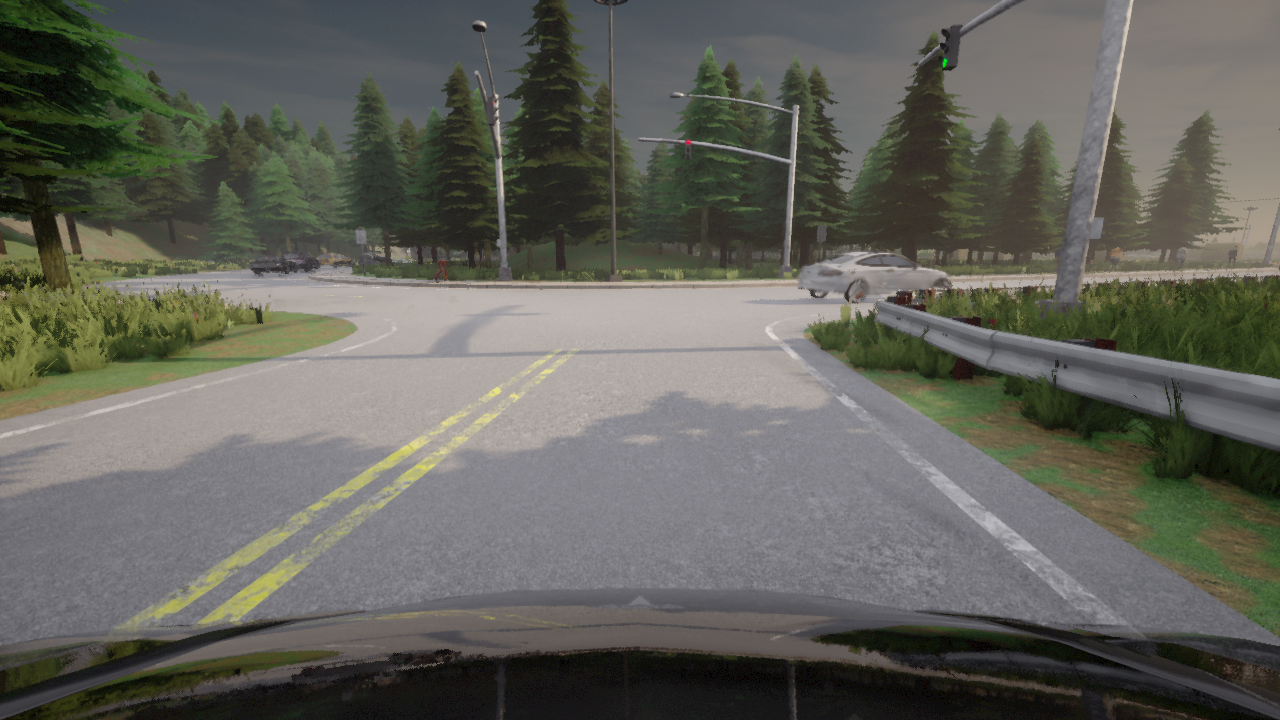cyclist: (0, 588, 1279, 719), (797, 251, 953, 303), (250, 255, 297, 274), (283, 251, 320, 271), (316, 252, 355, 268), (359, 252, 392, 264)
pedestrian: (434, 240, 448, 281), (1107, 243, 1125, 273), (1225, 245, 1238, 270), (1052, 243, 1062, 274), (1174, 245, 1186, 270), (1087, 257, 1095, 272), (929, 255, 938, 268)
